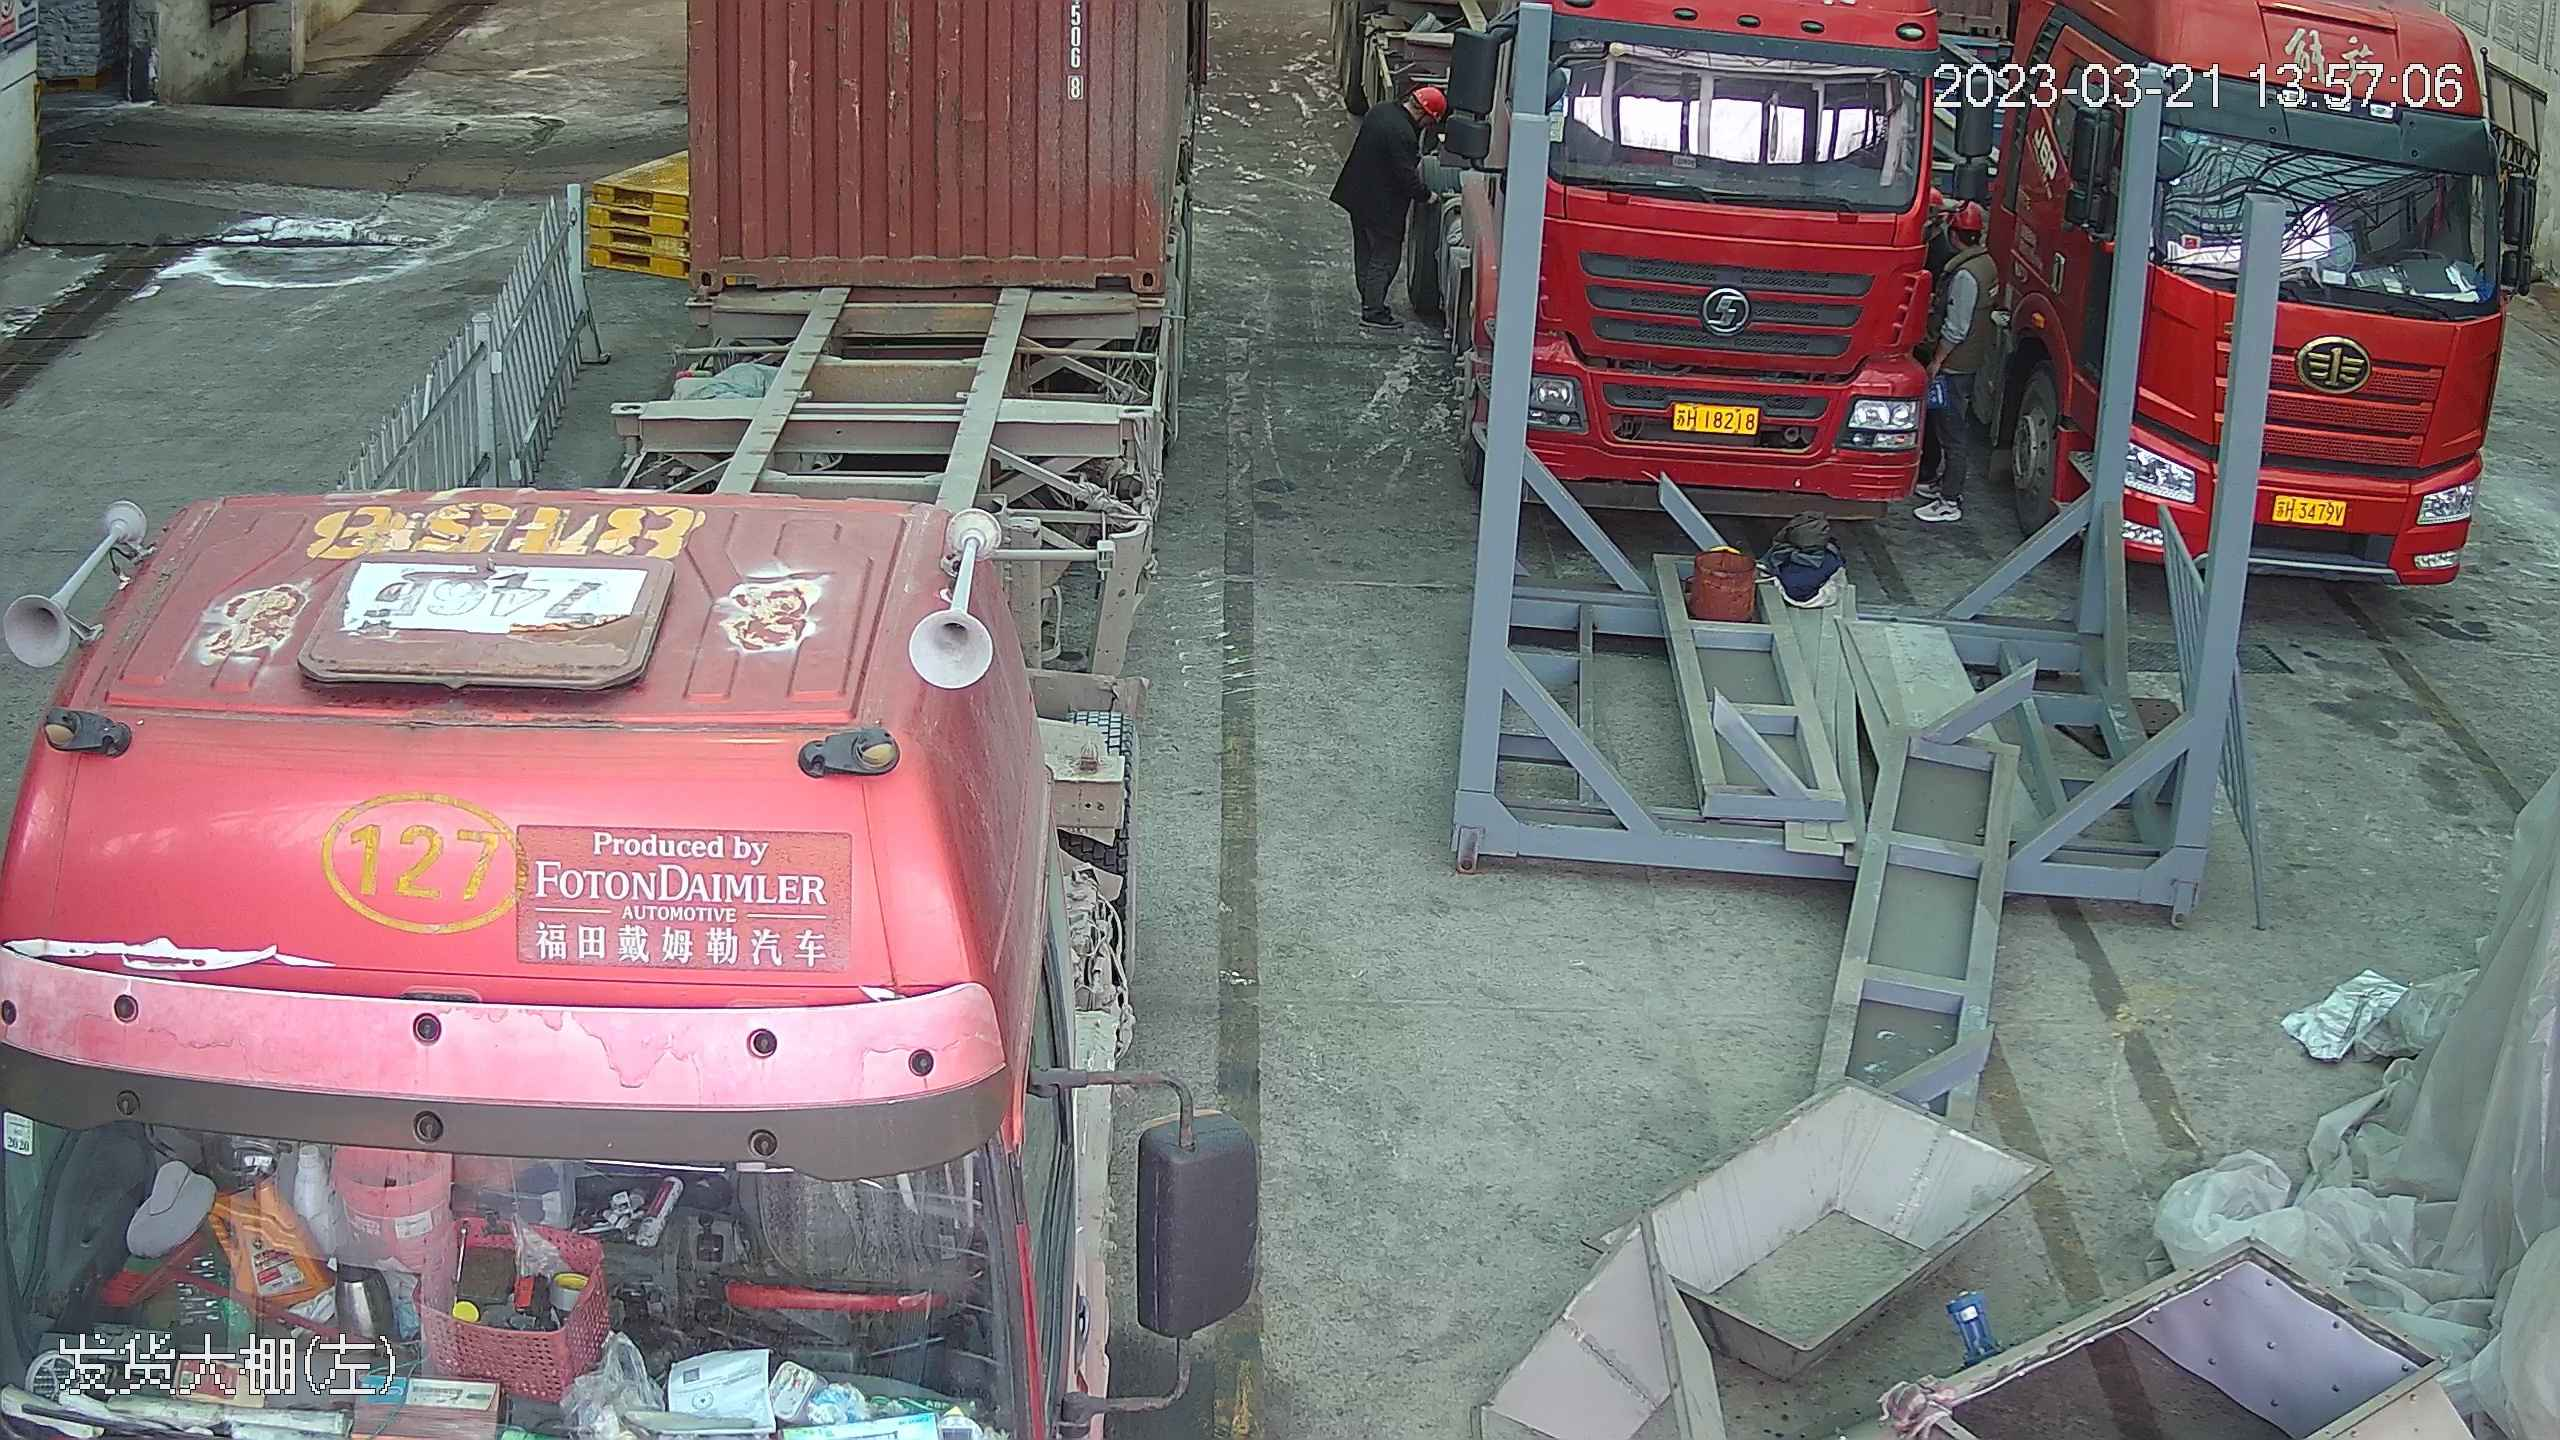head: (1946, 195, 2000, 298), (1378, 82, 1451, 153)
helmet: (1946, 199, 1986, 232), (1409, 81, 1447, 114)
people: (1333, 72, 1446, 334), (1930, 192, 2003, 523)
truck: (1, 1, 1167, 1440), (2014, 3, 2544, 590), (1521, 1, 2014, 525)
